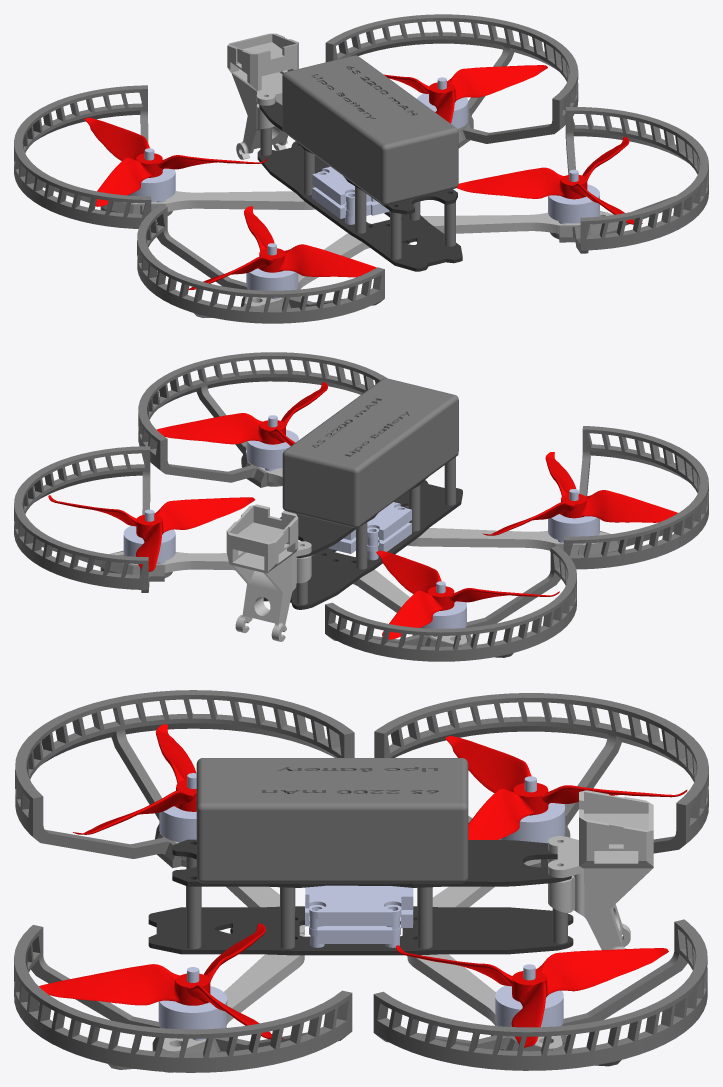
Rendered from drone-assembly.glb.
3 renders of one model, top to bottom at view 1: azimuth 30°, elevation 25°; view 2: azimuth 150°, elevation 25°; view 3: azimuth 270°, elevation 25°, orthographic. The views are drawn at different scales.
Parts seen in each view (by area): view 1: 6S 2200 mAH Battery-1, PROPGUARD-1, PROPGUARD-3, PROPGUARD-4, PROPGUARD-2, DRONEPLATE_2-1, Part2-1, Propeller CW Puller-3, Propeller CCW Puller-2, Propeller CW Puller-2, Propeller CCW Puller-3, dronearm-3 (+12 smaller); view 2: 6S 2200 mAH Battery-1, PROPGUARD-2, PROPGUARD-3, PROPGUARD-4, PROPGUARD-1, Part2-1, DRONEPLATE_2-1, Propeller CW Puller-3, Propeller CCW Puller-3, Propeller CCW Puller-2, Propeller CW Puller-2, dronearm-2 (+12 smaller); view 3: 6S 2200 mAH Battery-1, PROPGUARD-4, PROPGUARD-3, PROPGUARD-1, PROPGUARD-2, DRONEPLATE_2-1, Part2-1, Propeller CW Puller-3, Propeller CCW Puller-3, Propeller CW Puller-2, DRONEPLATE_1-1, ESC Board-2 (+13 smaller).
Part boxes in pixels (x1,y1,x2,y2): 6S 2200 mAH Battery-1: (282, 55, 458, 205); PROPGUARD-1: (137, 205, 384, 323); PROPGUARD-3: (550, 107, 708, 253); PROPGUARD-4: (325, 14, 578, 148); PROPGUARD-2: (14, 85, 172, 228); DRONEPLATE_2-1: (257, 141, 462, 271); Part2-1: (227, 33, 298, 159); Propeller CW Puller-3: (84, 117, 267, 206); Propeller CCW Puller-2: (188, 206, 376, 289); Propeller CW Puller-2: (457, 137, 642, 224); Propeller CCW Puller-3: (384, 65, 547, 123); dronearm-3: (131, 191, 315, 211); 6S 2200 mAH Battery-1: (282, 378, 458, 528); PROPGUARD-2: (325, 546, 576, 661); PROPGUARD-3: (138, 352, 386, 487); PROPGUARD-4: (14, 446, 172, 592); PROPGUARD-1: (550, 426, 708, 569); Part2-1: (226, 504, 311, 641); DRONEPLATE_2-1: (263, 480, 462, 609); Propeller CW Puller-3: (376, 550, 559, 639); Propeller CCW Puller-3: (48, 495, 255, 571); Propeller CCW Puller-2: (482, 452, 677, 535); Propeller CW Puller-2: (156, 382, 327, 445); dronearm-2: (407, 528, 610, 550); 6S 2200 mAH Battery-1: (196, 758, 468, 883); PROPGUARD-4: (373, 919, 707, 1070); PROPGUARD-3: (14, 925, 352, 1072); PROPGUARD-1: (15, 690, 354, 868); PROPGUARD-2: (374, 693, 708, 867); DRONEPLATE_2-1: (148, 906, 573, 955); Part2-1: (548, 790, 653, 949); Propeller CW Puller-3: (445, 736, 687, 839); Propeller CCW Puller-3: (396, 945, 668, 1047); Propeller CW Puller-2: (39, 923, 283, 1039); DRONEPLATE_1-1: (172, 839, 571, 887); ESC Board-2: (305, 885, 413, 925).
Bounding box in the file's own units: 0.3276 × 0.0783 × 0.2796.
